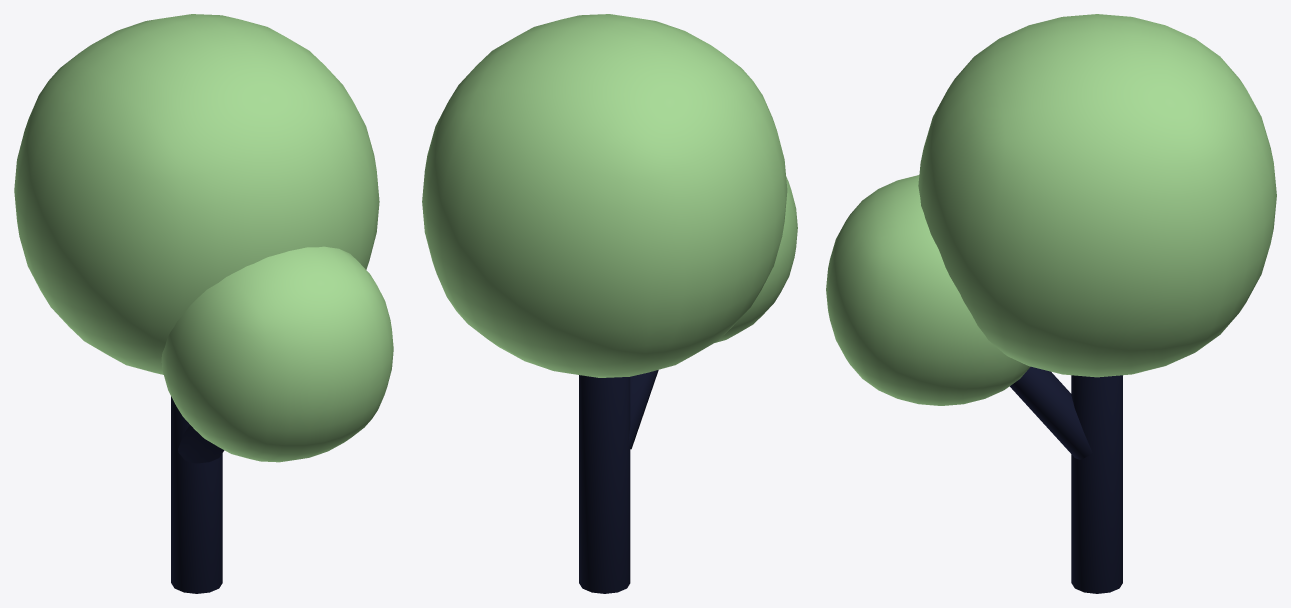
File: tree-fancy.gltf
3 renders of one model, left to right at view 1: azimuth 30°, elevation 25°; view 2: azimuth 150°, elevation 25°; view 3: azimuth 270°, elevation 25°, orthographic.
Parts seen in each view (by area): view 1: Cube.001, Cube.003, Cylinder.004, Cylinder.005; view 2: Cube.001, Cylinder.004, Cube.003, Cylinder.005; view 3: Cube.001, Cube.003, Cylinder.004, Cylinder.005.
Boxes of the visible parts, x1=… form: Cube.001: x1=14, y1=14, x2=379, y2=374; Cube.003: x1=161, y1=246, x2=393, y2=462; Cylinder.004: x1=171, y1=396, x2=222, y2=593; Cylinder.005: x1=178, y1=425, x2=224, y2=463; Cube.001: x1=422, y1=14, x2=787, y2=377; Cylinder.004: x1=579, y1=375, x2=630, y2=593; Cube.003: x1=715, y1=177, x2=797, y2=342; Cylinder.005: x1=628, y1=370, x2=658, y2=449; Cube.001: x1=918, y1=14, x2=1276, y2=377; Cube.003: x1=826, y1=175, x2=1030, y2=405; Cylinder.004: x1=1071, y1=375, x2=1122, y2=593; Cylinder.005: x1=1010, y1=366, x2=1092, y2=459.
Size of the model in its own units: 1.31 by 2.22 by 1.65.
